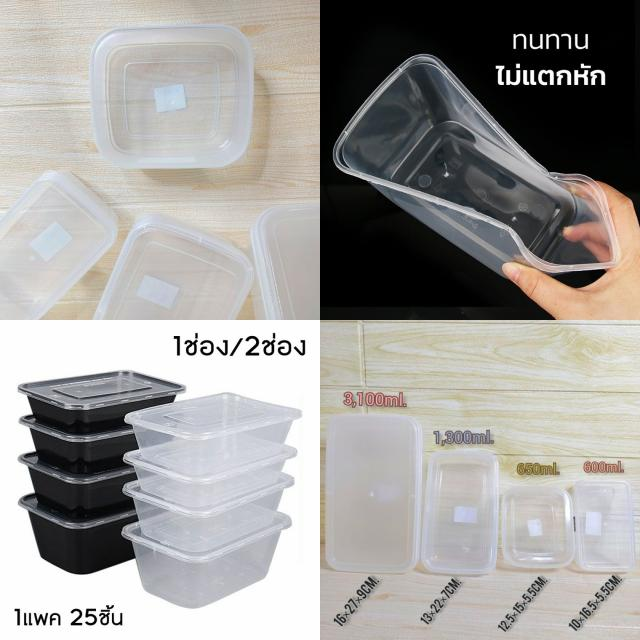Single-Use-Plastic: (334, 55, 620, 274), (90, 25, 254, 168), (124, 444, 296, 554), (0, 171, 118, 318), (95, 212, 254, 319), (122, 512, 291, 608), (126, 392, 301, 479), (326, 415, 422, 573), (18, 370, 185, 432), (421, 451, 499, 575), (19, 494, 138, 573), (250, 204, 320, 320), (18, 452, 136, 518), (19, 415, 138, 473), (502, 488, 575, 568), (574, 480, 635, 572)
